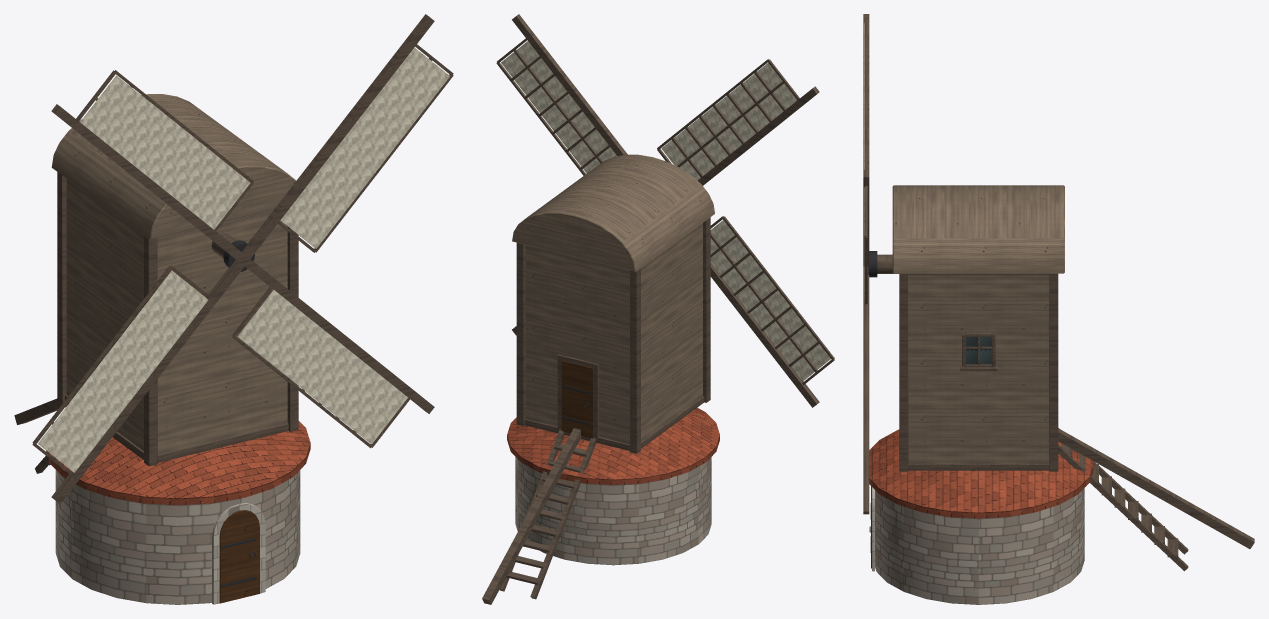
Rendered from post-windmill.glb.
The picture shows the model from 3 angles, left to right: view 1: azimuth 30°, elevation 25°; view 2: azimuth 150°, elevation 25°; view 3: azimuth 270°, elevation 25°; orthographic projection. The views are drawn at different scales.
Parts seen in each view (by area): view 1: Windmill, Sails; view 2: Windmill, Sails; view 3: Windmill, Sails.
Boxes of the visible parts, x1,y1,x2,y2 form: Windmill: [14, 94, 310, 604]; Sails: [32, 14, 453, 503]; Windmill: [482, 154, 719, 604]; Sails: [496, 14, 834, 407]; Windmill: [868, 185, 1254, 604]; Sails: [863, 14, 869, 514].
Bounding box in the file's own units: 9.51 × 12.2 × 8.87.
9 materials, 8 textured.
